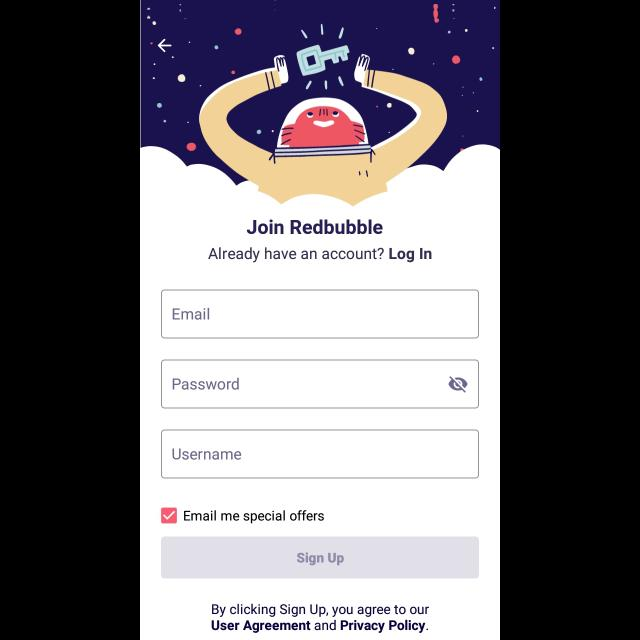checkbox: (162, 508, 176, 522)
icon: (448, 376, 468, 392), (158, 39, 172, 53)
image: (140, 1, 500, 207)
input: (161, 359, 479, 408), (161, 429, 479, 478), (161, 290, 479, 338)
text: (211, 604, 429, 632), (208, 248, 432, 262), (247, 220, 383, 234), (183, 510, 324, 522), (173, 378, 239, 390), (174, 448, 242, 459), (173, 308, 210, 320)
textbutton: (162, 537, 478, 579)
